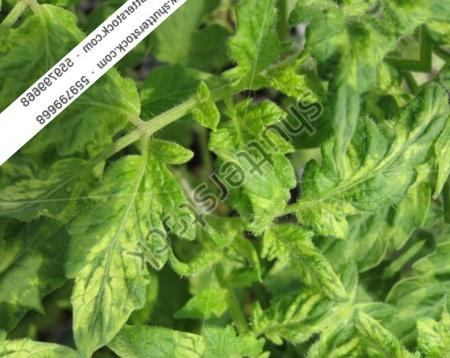Tomato leaf mosaic virus: (4, 133, 238, 358), (271, 59, 450, 265), (174, 75, 336, 239), (21, 60, 159, 191), (94, 259, 267, 358), (241, 198, 364, 326), (196, 0, 325, 99)
